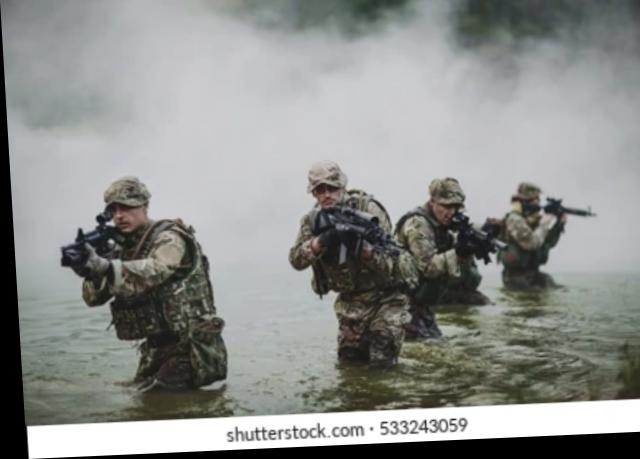other: (70, 175, 220, 406), (292, 158, 399, 389), (393, 184, 486, 311), (490, 179, 562, 290)
